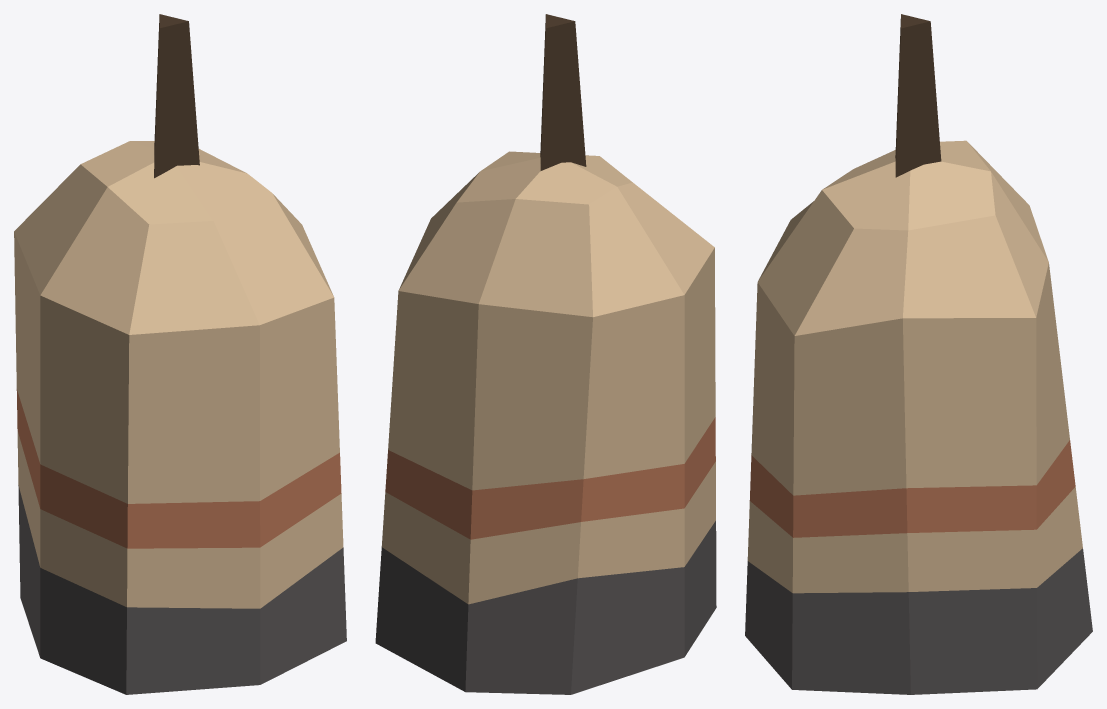
The model's file is empire-fence-wall-pillar-empire.glb.
The picture shows the model from 3 angles, left to right: view 1: azimuth 30°, elevation 25°; view 2: azimuth 150°, elevation 25°; view 3: azimuth 270°, elevation 25°; orthographic projection.
Parts seen in each view (by area): view 1: SM_Fence_Wall_Pillar_Empire; view 2: SM_Fence_Wall_Pillar_Empire; view 3: SM_Fence_Wall_Pillar_Empire.
Part boxes in pixels (x1=…): SM_Fence_Wall_Pillar_Empire: x1=14, y1=14, x2=346, y2=694; SM_Fence_Wall_Pillar_Empire: x1=375, y1=14, x2=716, y2=694; SM_Fence_Wall_Pillar_Empire: x1=745, y1=14, x2=1092, y2=694.
Size of the model in its own units: 0.9095 by 2.04 by 1.05.
